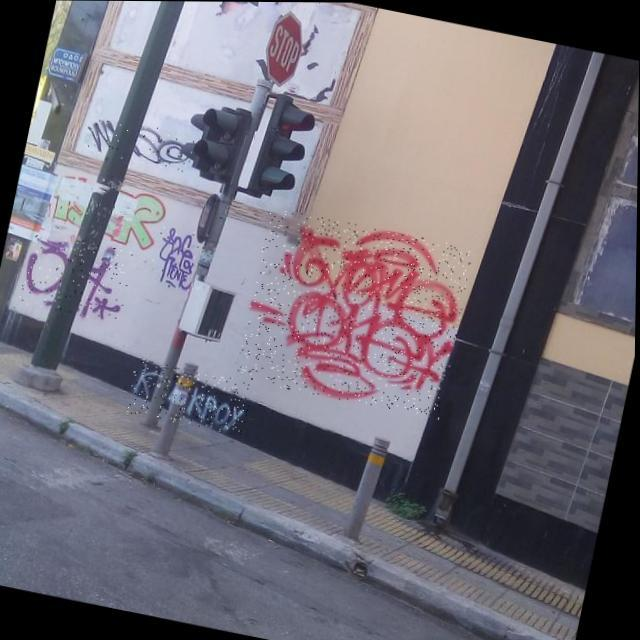-: (236, 207, 476, 419), (19, 230, 136, 324), (126, 357, 256, 436), (83, 114, 198, 174), (148, 225, 210, 292)
